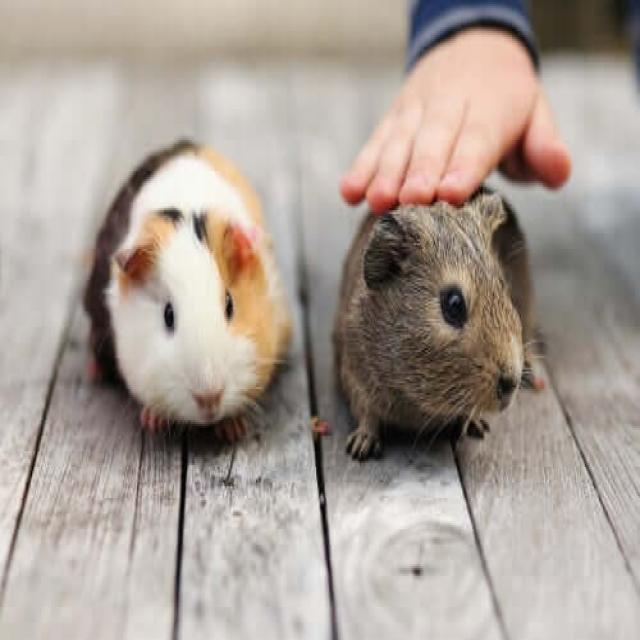guinea pig: (89, 138, 293, 432), (335, 187, 526, 447)
